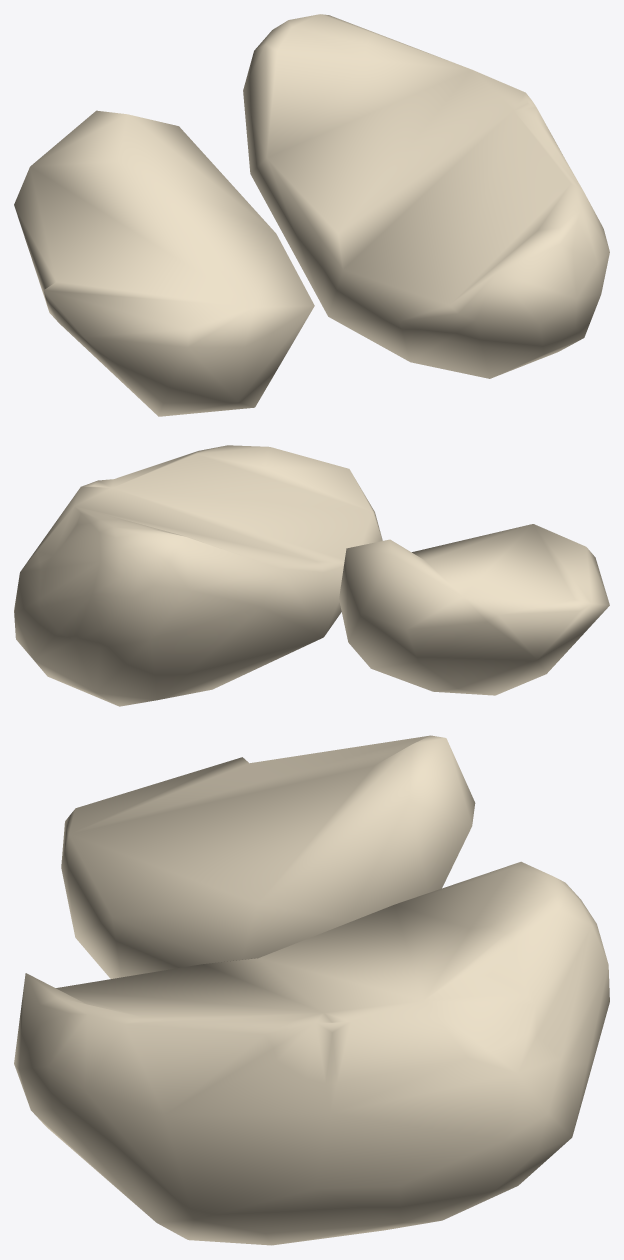
Rendered from sesamoid-bones-of-foot-l.glb.
3 renders of one model, top to bottom at view 1: azimuth 30°, elevation 25°; view 2: azimuth 150°, elevation 25°; view 3: azimuth 270°, elevation 25°, orthographic. The views are drawn at different scales.
Parts seen in each view (by area): view 1: Sesamoid bones of foot.l; view 2: Sesamoid bones of foot.l; view 3: Sesamoid bones of foot.l.
Part boxes in pixels (x1=…): Sesamoid bones of foot.l: x1=14, y1=14, x2=609, y2=416; Sesamoid bones of foot.l: x1=14, y1=445, x2=609, y2=706; Sesamoid bones of foot.l: x1=14, y1=735, x2=609, y2=1245.
Size of the model in its own units: 0.0174 by 0.00802 by 0.0136.
